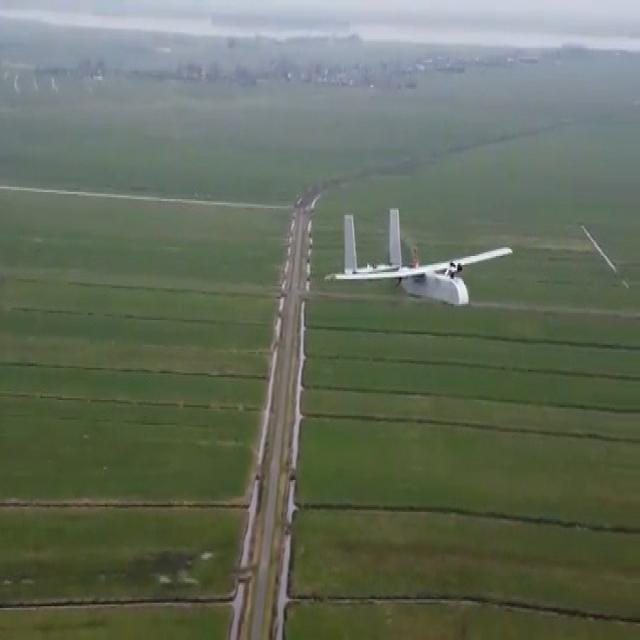iha: (330, 194, 522, 328)
